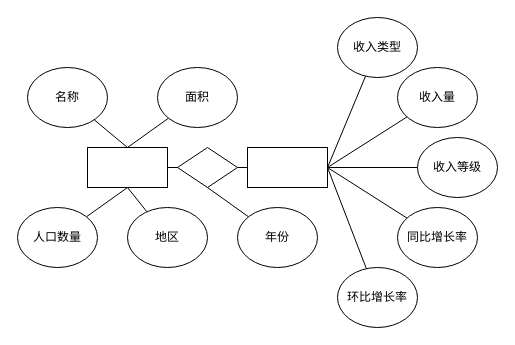
This 515x345 diagram has some shape labels left out. The centre of each missing label's shape, as x and y in pixels:
"取得" goes at point (207, 167).
"城市" goes at point (127, 167).
"收入" goes at point (287, 167).
